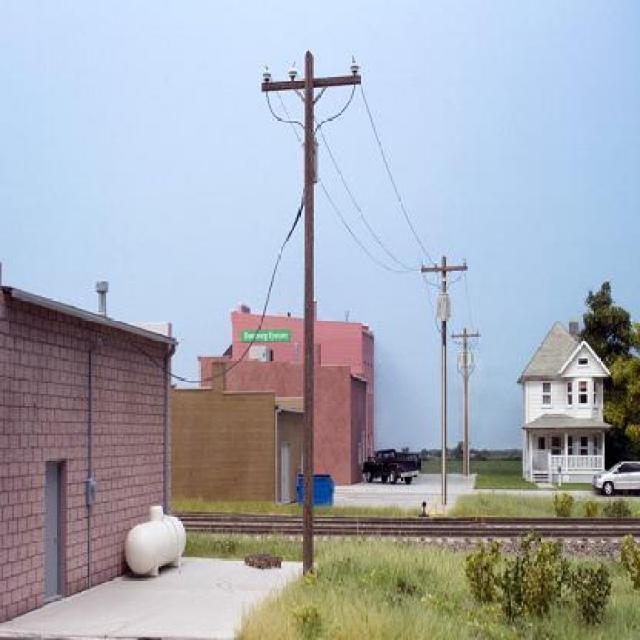pole: (252, 42, 370, 569), (412, 254, 470, 500), (449, 321, 485, 474)
